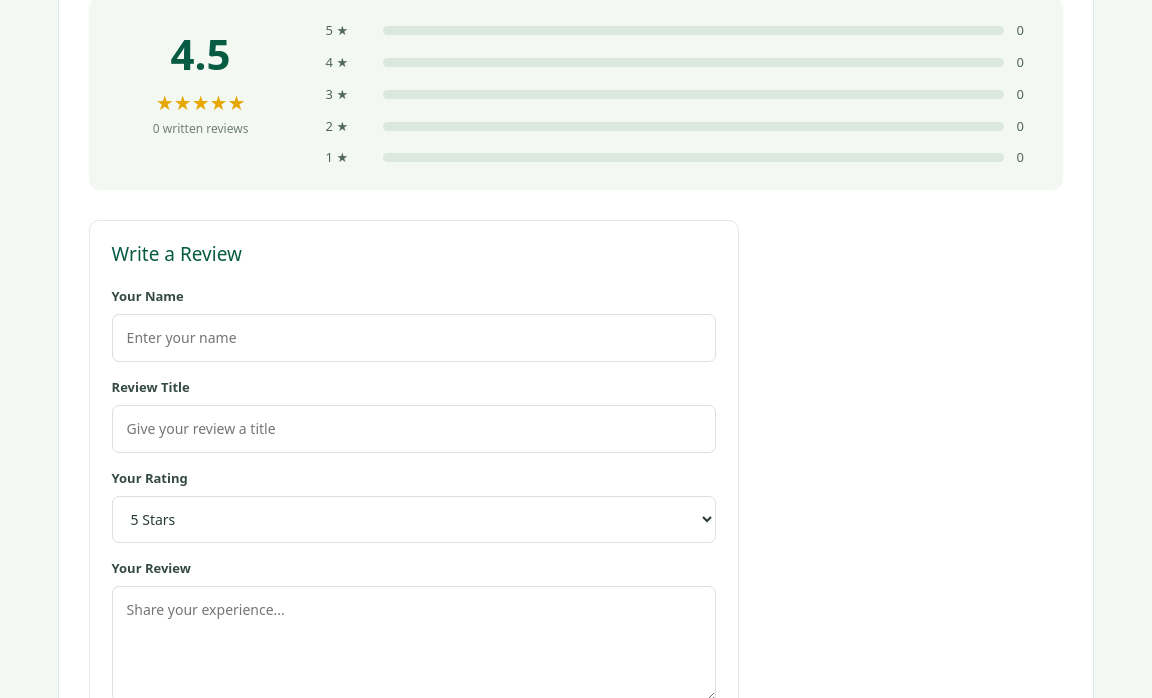
ProductDetails Component › Customer Reviews › submits a review successfully
The width and height of the screenshot is (1152, 698).
(page scrolled)
Type "Test User" into the field with id "review-name" at (414, 338), box left=112, top=314, right=716, bottom=362
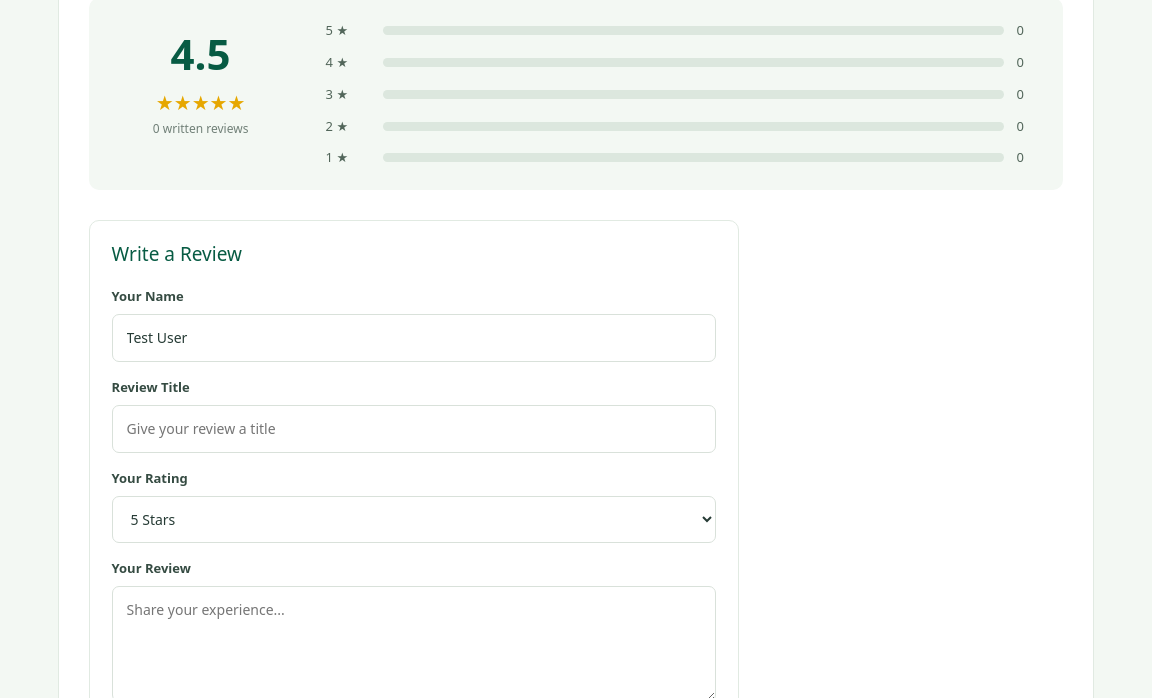
Type "Excellent Product" into the field with id "review-title" at (414, 429), box left=112, top=405, right=716, bottom=453
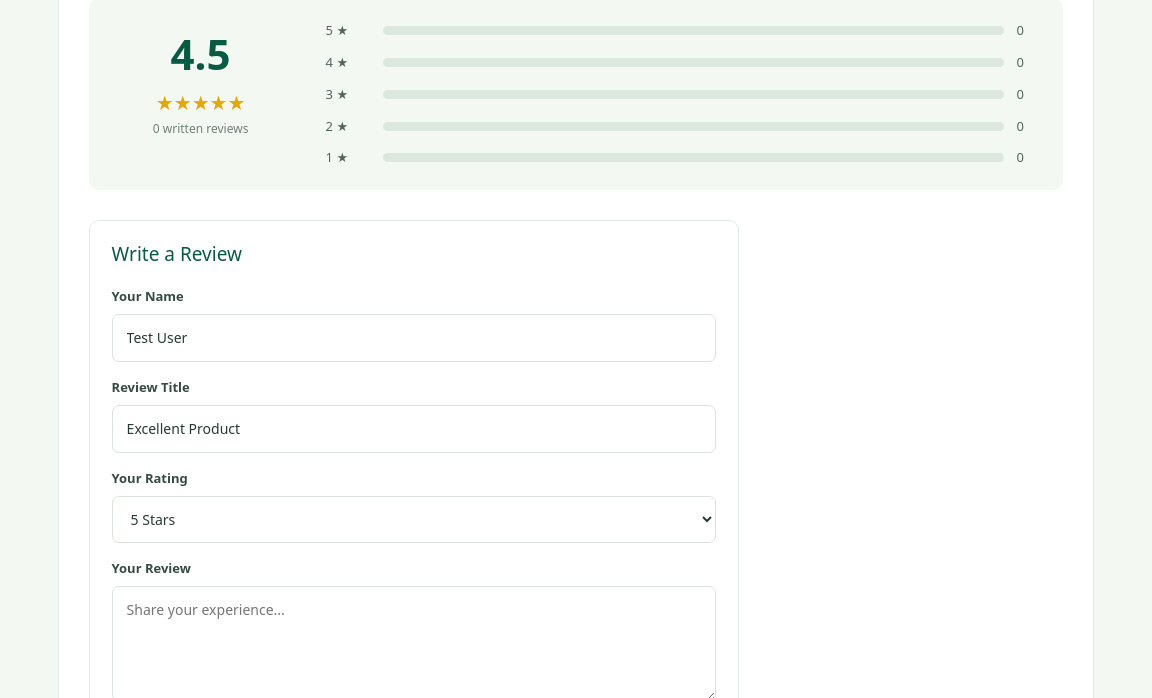
Select "4 Stars" in the dropdown with id "review-rating" at (414, 520), box left=112, top=496, right=716, bottom=543
(page scrolled)
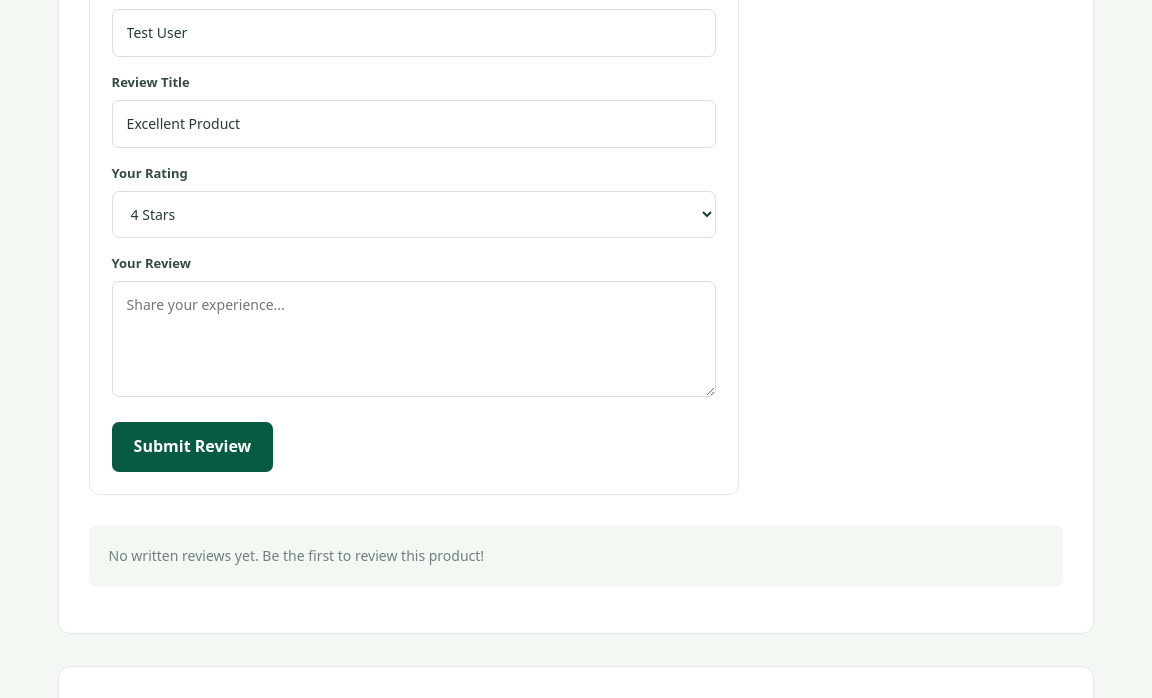
Type "Very useful and sustainable." into the text box with id "review-comment" at (414, 339), box left=112, top=281, right=716, bottom=397
(page scrolled)
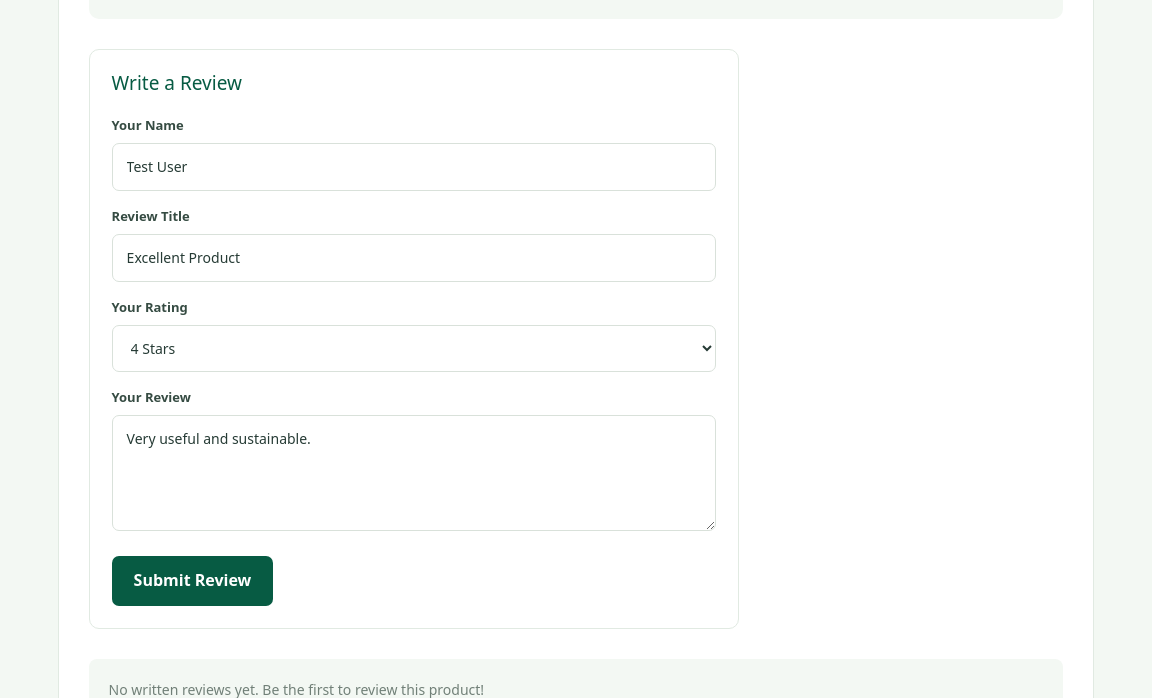
Submit the form with class "review-form", box left=89, top=49, right=739, bottom=629
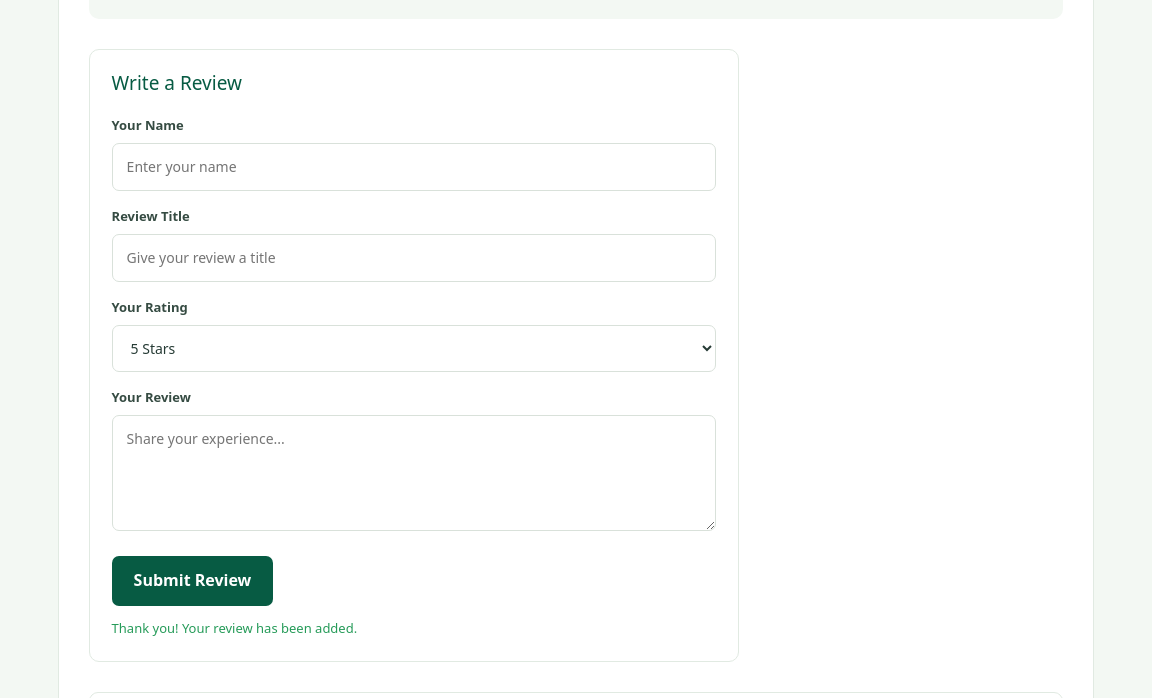
Expected: the text "Thank you! Your review has been added." is shown, left=112, top=619, right=357, bottom=637
